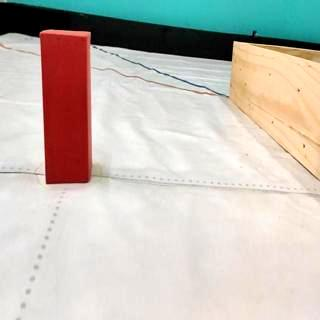redbox: (38, 28, 92, 184)
